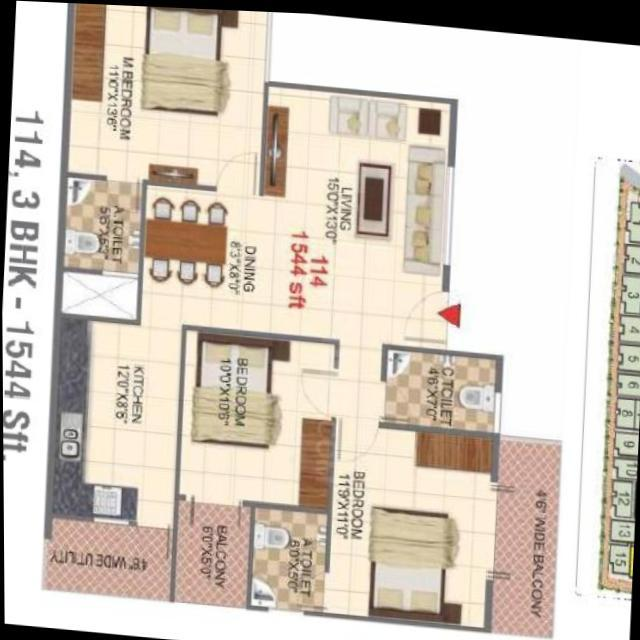Balcony-Sitout: (487, 431, 558, 631), (172, 496, 248, 606)
Bedroom: (328, 417, 492, 623), (176, 325, 336, 508)
Bedroom with Toilet: (59, 3, 271, 276)
Dining: (144, 193, 233, 291)
Enterance-Foyer: (401, 276, 468, 345)
Kitchen: (49, 315, 181, 525)
Living: (258, 82, 456, 350)
Toilet: (332, 340, 503, 429), (244, 504, 331, 609), (60, 179, 146, 273)
Utility: (44, 514, 171, 600)
